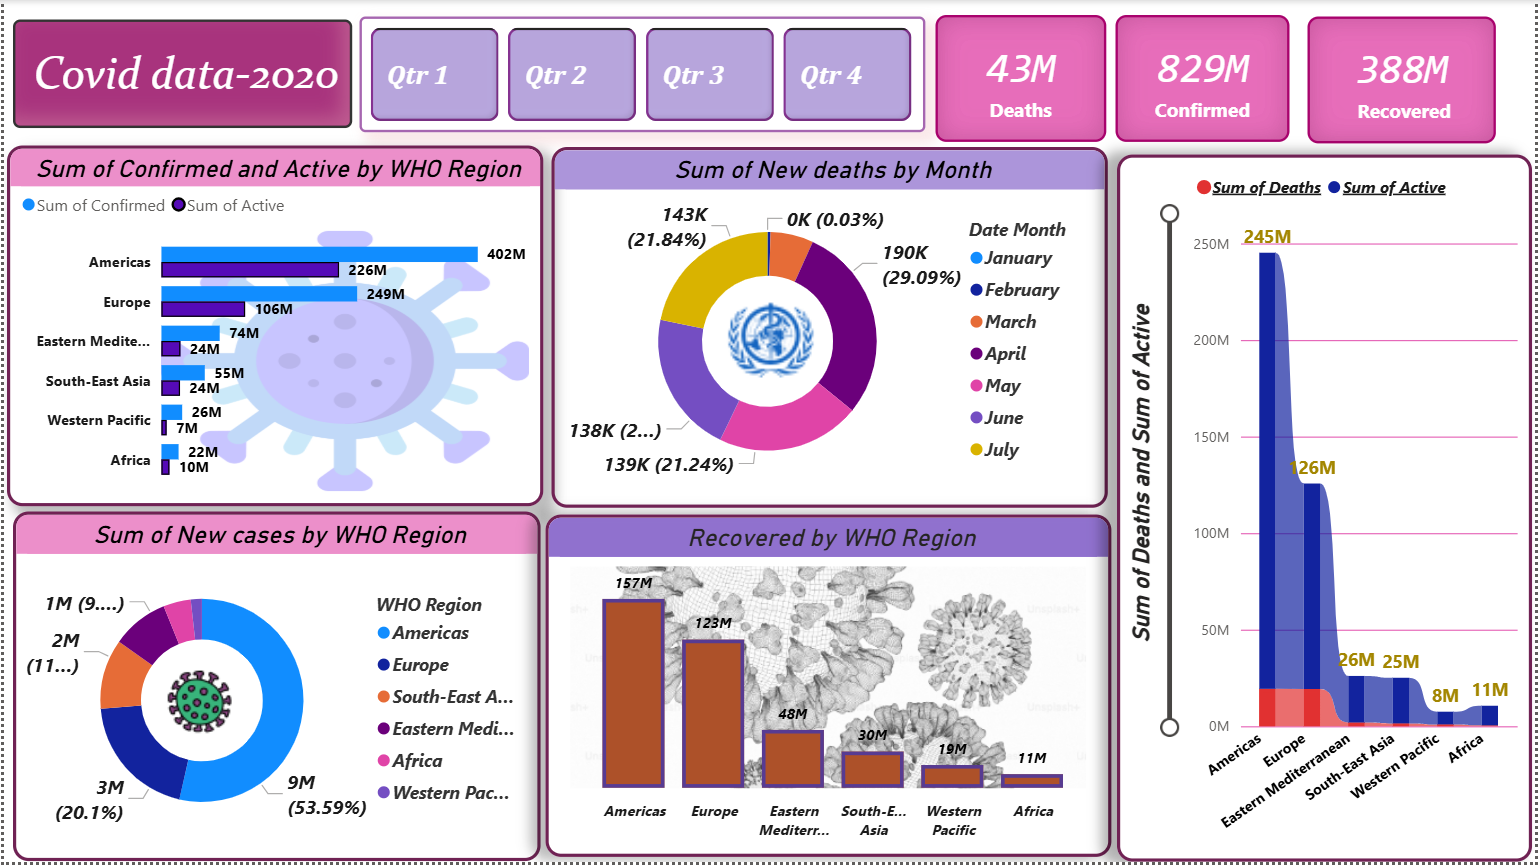

Layout of this report page (visuals, bound fields, positions):
{"tool":"powerbi","page":{"name":"Covid Dashboard 2020","canvas":[1280,720],"ordinal":0},"visuals":[{"type":"textbox","box":[7.6,16.7,283.2,90.9],"z":0},{"type":"advancedSlicerVisual","fields":{"Values":["Sheet1.Date.Variation.Date Hierarchy.Quarter"]},"box":[296.8,13.6,472.4,96.9],"z":1000},{"type":"card","fields":{"Values":["Sum(Sheet1.Deaths)"]},"box":[778.3,12.1,142.3,106],"z":2000},{"type":"card","fields":{"Values":["Sum(Sheet1.Recovered)"]},"box":[1088.7,13.6,157.5,106],"z":3000},{"type":"card","fields":{"Values":["Sum(Sheet1.Confirmed)"]},"box":[928.2,12.1,145.4,106],"z":4000},{"type":"clusteredBarChart","title":"Sum of Confirmed and  Active by WHO Region","fields":{"Category":["Sheet1.WHO Region"],"Y":["Sum(Sheet1.Confirmed)","Sum(Sheet1.Active)"]},"box":[3,121.1,448.2,301.3],"z":5000},{"type":"donutChart","fields":{"Category":["Sheet1.WHO Region"],"Y":["Sum(Sheet1.New cases)"]},"box":[7.6,427,440.6,292.2],"z":6000},{"type":"columnChart","fields":{"Category":["Sheet1.WHO Region"],"Y":["Sum(Sheet1.Recovered)"]},"box":[452.7,430,472.4,286.2],"z":7000},{"type":"donutChart","fields":{"Category":["Sheet1.Date.Variation.Date Hierarchy.Month"],"Y":["Sum(Sheet1.New deaths)"]},"box":[457.3,122.7,464.9,301.3],"z":8000},{"type":"ribbonChart","fields":{"Category":["Sheet1.WHO Region"],"Y":["Sum(Sheet1.Deaths)","Sum(Sheet1.Active)"]},"box":[929.7,129.4,346.8,590.5],"z":9000},{"type":"image","box":[127.2,549.7,71.2,71.2],"z":10000},{"type":"image","box":[592.1,233.2,95.4,104.5],"z":11000}]}

Visuals, with their boxes in screenshot pixels (x1, y1, x2, y2), scaled from the page's 1280x720 canvas onto the 1540x868 screenshot:
textbox: left=9, top=20, right=350, bottom=130
advancedSlicerVisual - Sheet1.Date.Variation.Date Hierarchy.Quarter: left=357, top=16, right=925, bottom=133
card - Sum(Sheet1.Deaths): left=936, top=15, right=1108, bottom=142
card - Sum(Sheet1.Recovered): left=1310, top=16, right=1499, bottom=144
card - Sum(Sheet1.Confirmed): left=1117, top=15, right=1292, bottom=142
"Sum of Confirmed and  Active by WHO Region" clusteredBarChart: left=4, top=146, right=543, bottom=509
donutChart - Sheet1.WHO Region x Sum(Sheet1.New cases): left=9, top=515, right=539, bottom=867
columnChart - Sheet1.WHO Region x Sum(Sheet1.Recovered): left=545, top=518, right=1113, bottom=863
donutChart - Sheet1.Date.Variation.Date Hierarchy.Month x Sum(Sheet1.New deaths): left=550, top=148, right=1110, bottom=511
ribbonChart - Sheet1.WHO Region x Sum(Sheet1.Deaths): left=1119, top=156, right=1536, bottom=867
image: left=153, top=663, right=239, bottom=749
image: left=712, top=281, right=827, bottom=407
